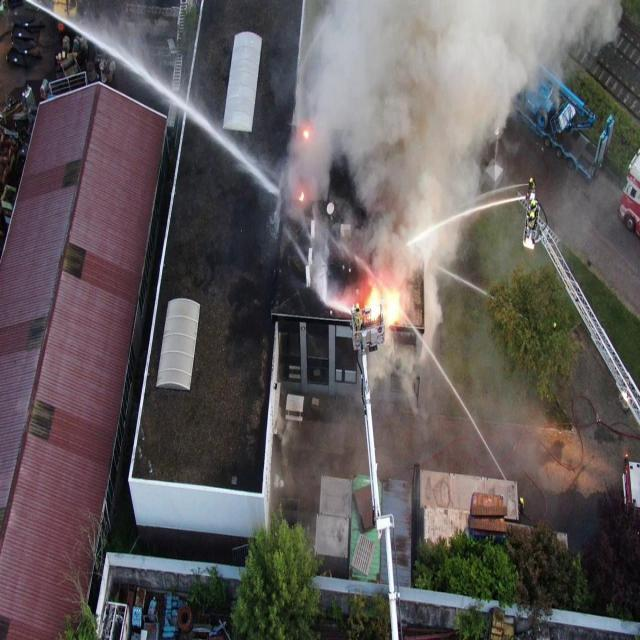Fire: (364, 284, 381, 321), (386, 289, 400, 325), (298, 191, 304, 201), (303, 130, 309, 138)
Smoke: (274, 0, 623, 485)
